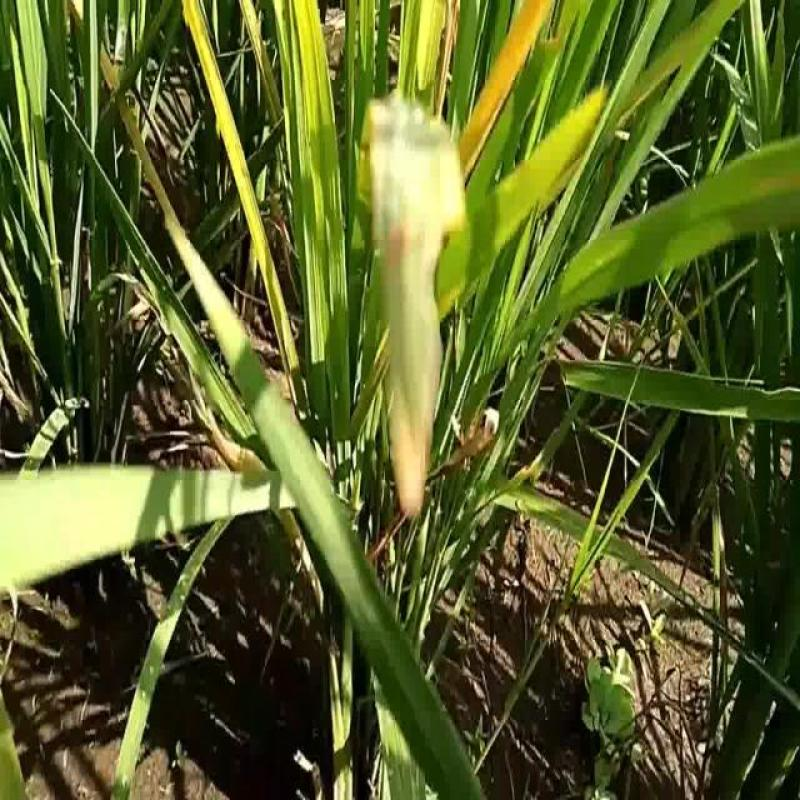Rice Tungro: (179, 3, 276, 286), (454, 5, 554, 177), (286, 3, 349, 192)
